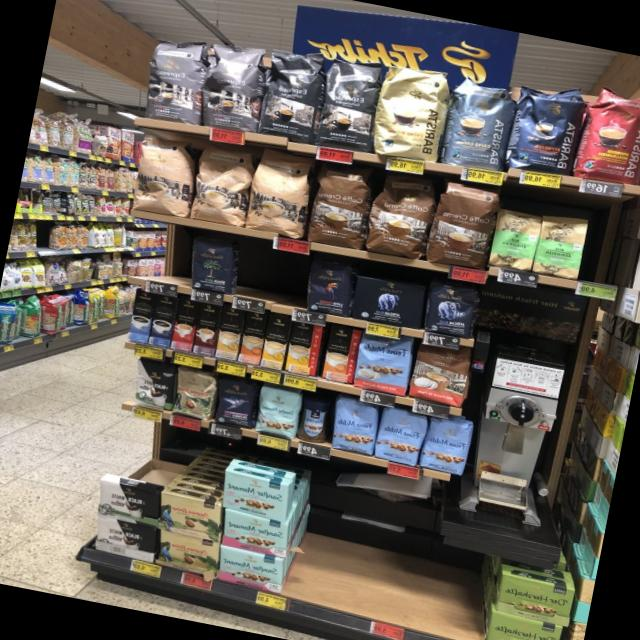AB Bohne: (421, 281, 482, 340)
AB Gemahlen: (351, 275, 429, 331)
Athiopien Gemahlen: (530, 214, 590, 281), (488, 206, 543, 273)
BM Bohne: (188, 233, 239, 295)
BW Bohne: (128, 356, 177, 413)
BW Gemahlen: (96, 479, 162, 528), (94, 516, 157, 564)
Barista CB: (372, 63, 454, 165)
Barista CC: (438, 75, 516, 173)
Barista Espresso: (504, 80, 590, 177)
Barista Kolumbien: (573, 80, 640, 186)
C Fino Bohne: (211, 375, 259, 433)
CC Mild: (244, 148, 316, 240), (187, 139, 258, 228), (130, 132, 197, 220)
CC Vollmundig: (406, 343, 471, 409)
CC Vollmundig 36 Pads: (425, 178, 502, 272), (363, 171, 440, 260), (305, 161, 378, 252)
Colombia BB Bohne: (171, 367, 218, 423)
Colombia BB Gemahlen: (156, 491, 221, 543), (155, 530, 219, 581)
Empty Shelf: (280, 517, 496, 640), (236, 245, 307, 308), (125, 219, 190, 287), (580, 219, 636, 289), (160, 452, 221, 504)
Espresso Aromatisch: (200, 38, 268, 136), (140, 33, 210, 127)
Espresso Kraftig: (313, 57, 387, 155), (256, 43, 327, 143)
FM 36 Pads: (353, 333, 416, 399)
FM Bohne: (417, 417, 475, 479), (373, 406, 428, 469), (329, 397, 380, 459)
FM Instant: (295, 396, 334, 447)
Herzhatfe Mundig: (495, 570, 576, 628), (486, 609, 563, 640)
LG Bohne: (304, 257, 359, 319)
SM Bohne: (252, 384, 303, 442)
SM Gemahlen: (221, 508, 291, 561), (222, 470, 289, 522), (217, 546, 286, 595)
Simo CCMild: (284, 321, 325, 376)
Simo CCMild bigpack: (260, 314, 291, 371)
Simo CCVollmundig: (322, 324, 361, 384)
Simo CCVollmundig bigpack: (238, 311, 269, 365)
Simo Decaff: (214, 306, 245, 361)
Simo Es Brazil: (170, 298, 200, 352)
Simo Es Caramel: (192, 302, 221, 357)
Simo Es Kraft: (148, 295, 178, 349)
Simo Es Vanilla: (127, 289, 156, 345)
